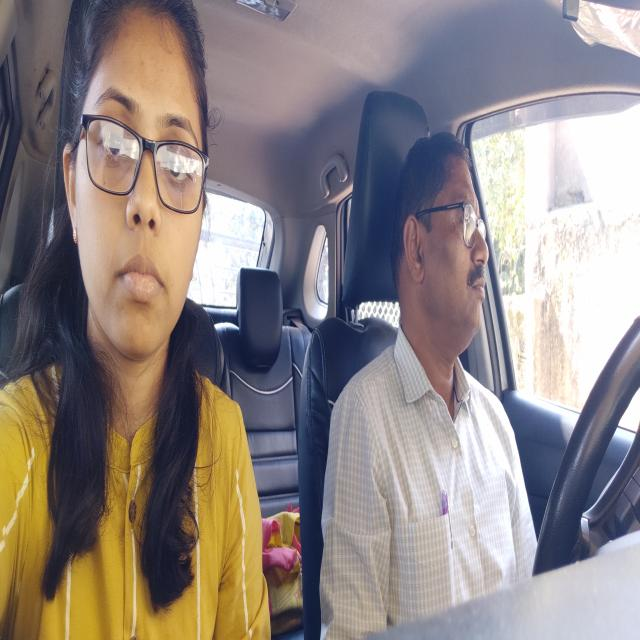drowsy: (397, 141, 489, 361)
person: (60, 9, 213, 368)
